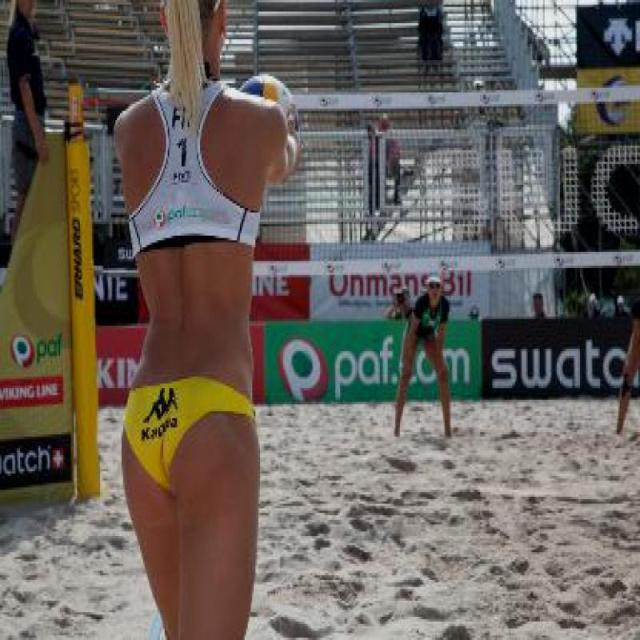volleyball: (235, 72, 300, 134)
